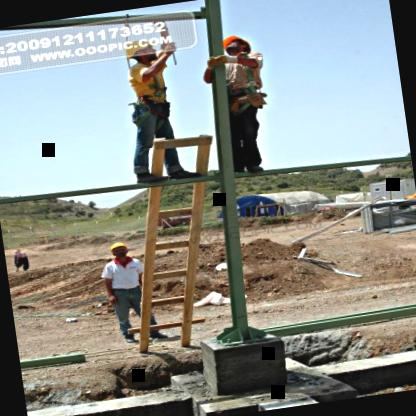helmet: (116, 37, 160, 68), (217, 30, 254, 64), (106, 239, 130, 262)
